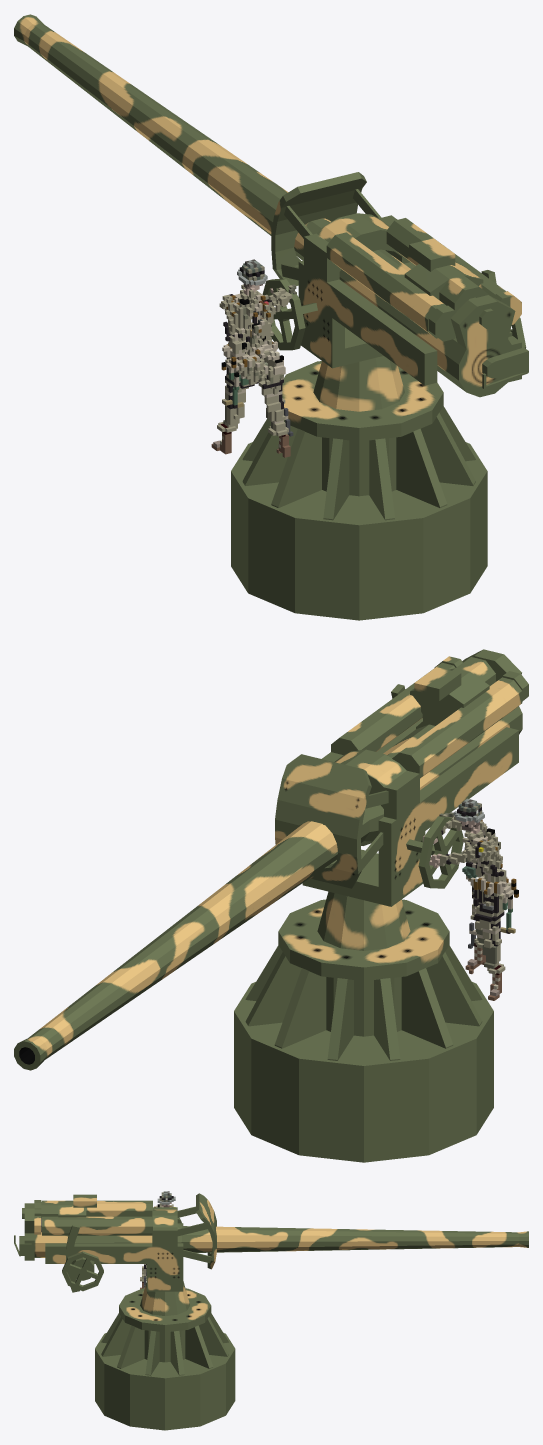
Rendered from coastal_gun.glb.
3 renders of one model, top to bottom at view 1: azimuth 30°, elevation 25°; view 2: azimuth 150°, elevation 25°; view 3: azimuth 270°, elevation 25°, orthographic. The views are drawn at different scales.
Visible parts, largest first — view 1: 00_chassis_coastal_gun_base.mesh, weapon_turret_0_coastal_gun_gun.mesh, 02_turret_coastal_gun_turret.mesh, crew_soldier_SLOT_00_GUNNER; view 2: 00_chassis_coastal_gun_base.mesh, 02_turret_coastal_gun_turret.mesh, weapon_turret_0_coastal_gun_gun.mesh, crew_soldier_SLOT_00_GUNNER; view 3: 00_chassis_coastal_gun_base.mesh, 02_turret_coastal_gun_turret.mesh, weapon_turret_0_coastal_gun_gun.mesh, crew_soldier_SLOT_00_GUNNER.
Part boxes in pixels (<box>): 00_chassis_coastal_gun_base.mesh: <box>231,356,487,620</box>; weapon_turret_0_coastal_gun_gun.mesh: <box>14,14,528,397</box>; 02_turret_coastal_gun_turret.mesh: <box>262,172,526,385</box>; crew_soldier_SLOT_00_GUNNER: <box>211,259,296,457</box>; 00_chassis_coastal_gun_base.mesh: <box>234,891,493,1162</box>; 02_turret_coastal_gun_turret.mesh: <box>275,662,522,906</box>; weapon_turret_0_coastal_gun_gun.mesh: <box>14,649,528,1070</box>; crew_soldier_SLOT_00_GUNNER: <box>423,798,518,1000</box>; 00_chassis_coastal_gun_base.mesh: <box>95,1281,235,1430</box>; 02_turret_coastal_gun_turret.mesh: <box>42,1193,216,1292</box>; weapon_turret_0_coastal_gun_gun.mesh: <box>14,1194,528,1260</box>; crew_soldier_SLOT_00_GUNNER: <box>140,1191,175,1289</box>.
Size of the model in its own units: 2.56 by 3.55 by 8.16.
Materials: 36 (1 with a texture image).
